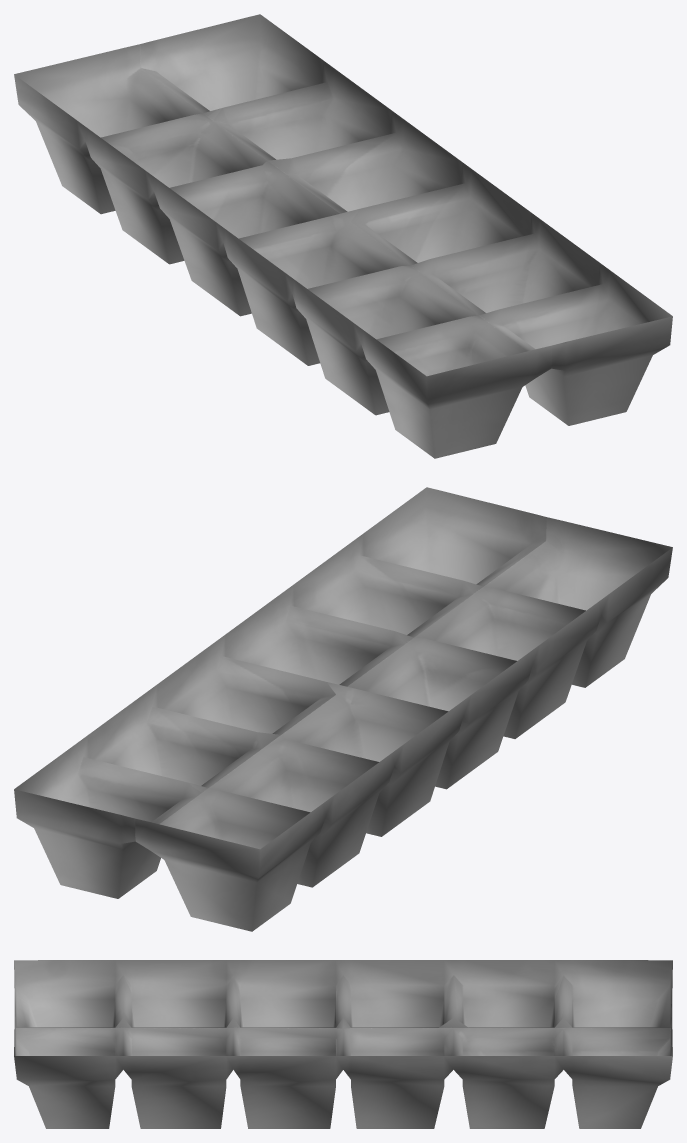
Rendered from EggCarton.fbx.
3 renders of one model, top to bottom at view 1: azimuth 30°, elevation 25°; view 2: azimuth 150°, elevation 25°; view 3: azimuth 270°, elevation 25°, orthographic. The views are drawn at different scales.
Visible parts, largest first — view 1: EggCarton; view 2: EggCarton; view 3: EggCarton.
Boxes of the visible parts, box(x1,y1,x2,y2) form: EggCarton: box(14, 14, 672, 458); EggCarton: box(14, 487, 672, 931); EggCarton: box(14, 960, 672, 1128).
Size of the model in its own units: 95.45 by 38.51 by 277.
